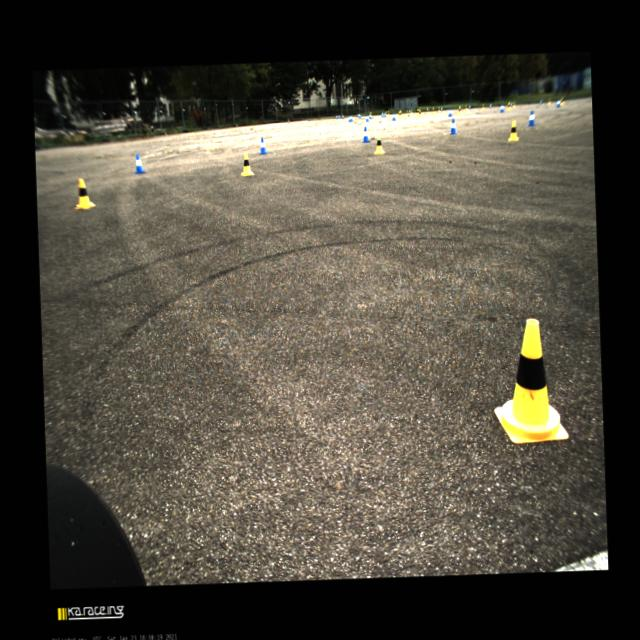blue_cone: (134, 152, 146, 172), (258, 136, 268, 154), (526, 110, 536, 126), (361, 126, 370, 142), (448, 118, 456, 134), (391, 112, 396, 120), (499, 104, 504, 112), (448, 108, 452, 116), (556, 99, 560, 107), (365, 114, 369, 121), (348, 115, 351, 122), (350, 114, 353, 121), (368, 113, 372, 118), (381, 110, 384, 116), (408, 108, 411, 114), (539, 98, 542, 104), (358, 113, 361, 118), (336, 114, 338, 120), (468, 104, 470, 110), (338, 114, 340, 118), (342, 114, 344, 118), (357, 112, 359, 116), (384, 112, 386, 116), (440, 106, 442, 110), (489, 104, 491, 108), (510, 102, 512, 106)
yellow_cone: (490, 318, 568, 442), (74, 177, 95, 209), (240, 152, 253, 175), (372, 133, 384, 154), (506, 120, 518, 140), (458, 105, 462, 114), (398, 110, 402, 118), (418, 108, 422, 116), (560, 97, 564, 105), (506, 102, 509, 110), (547, 98, 551, 104), (426, 107, 429, 114), (437, 105, 440, 112), (410, 108, 413, 114), (512, 101, 515, 107), (406, 108, 408, 115), (432, 107, 434, 114), (370, 111, 372, 117), (386, 110, 388, 116), (388, 110, 390, 116), (416, 108, 418, 114), (482, 103, 484, 109), (464, 105, 466, 110)
